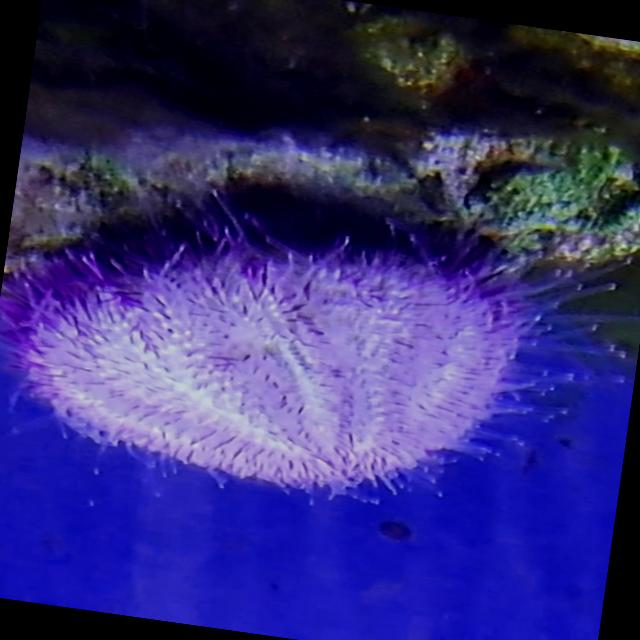Deniz Kestanesi: (0, 160, 586, 544)
